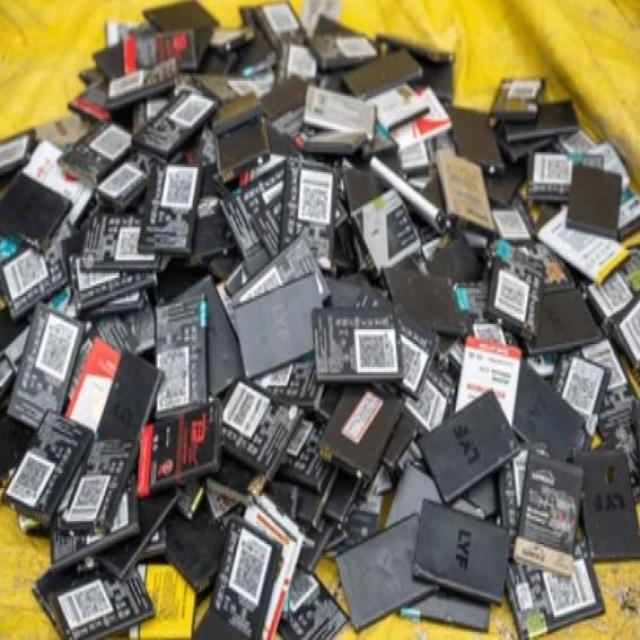electronic: (219, 270, 348, 380), (128, 58, 215, 210), (286, 70, 396, 186), (136, 156, 214, 288)
